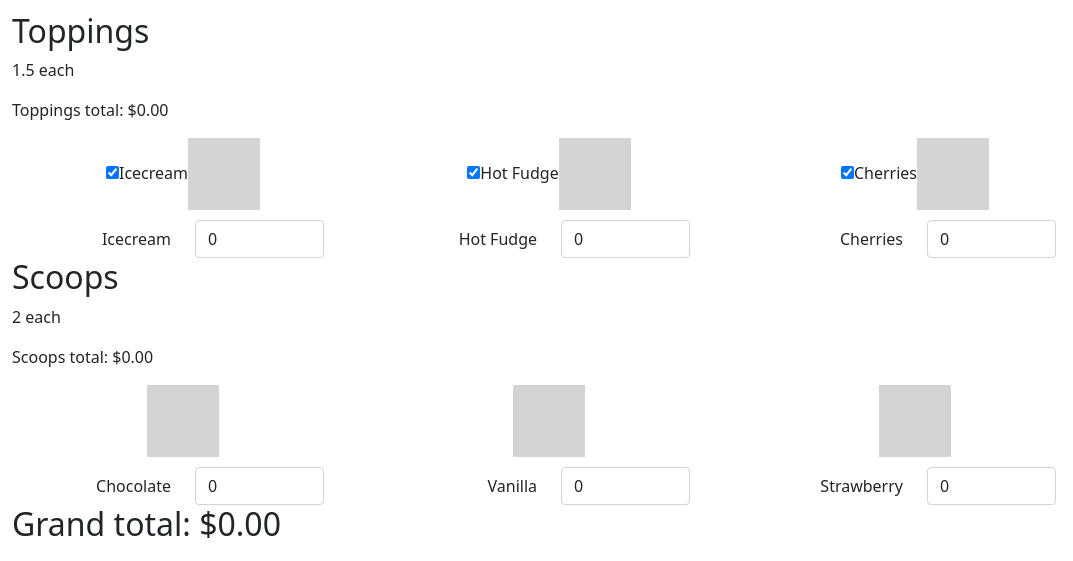
Test: grand total › grand total updates properly if item is removed
Replace the text in the number field labelled "Chocolate" with "1" at [259, 486], box [195,467,324,505]
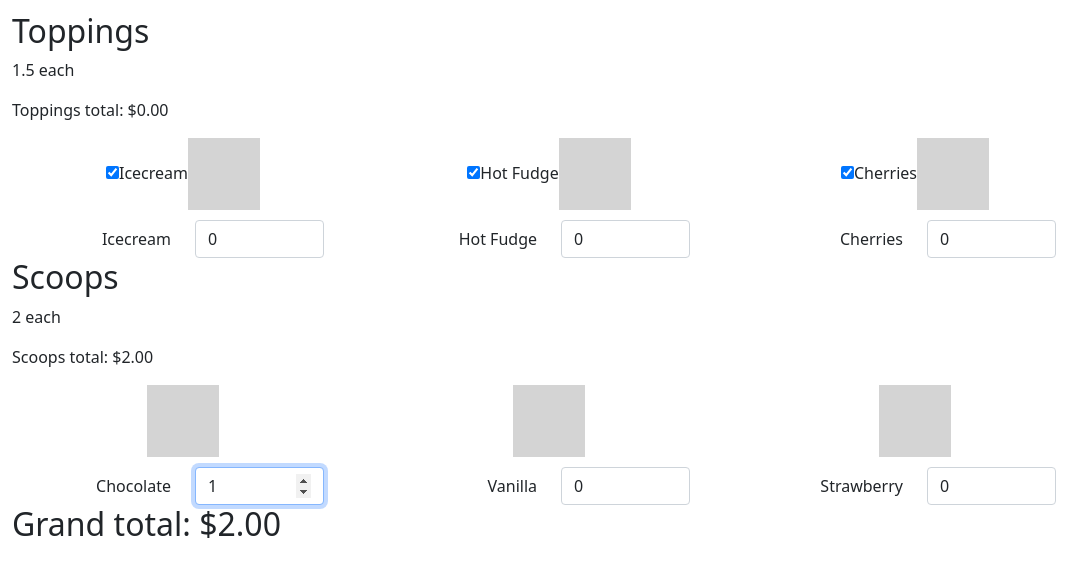
Expected: the heading "Grand total: $2.00" is shown, [12,502,281,545]
Replace the text in the number field labelled "Icecream" with "2" at [259, 239], box [195,220,324,258]
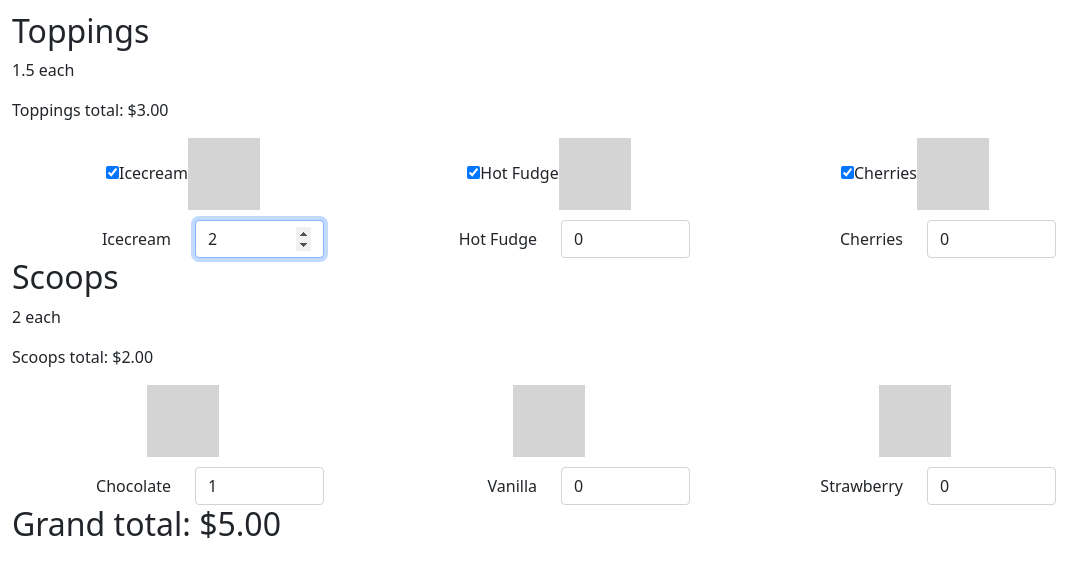
Expected: the heading "Grand total: $5.00" is shown, [12,502,281,545]
Replace the text in the number field labelled "Icecream" with "1" at [259, 239], box [195,220,324,258]
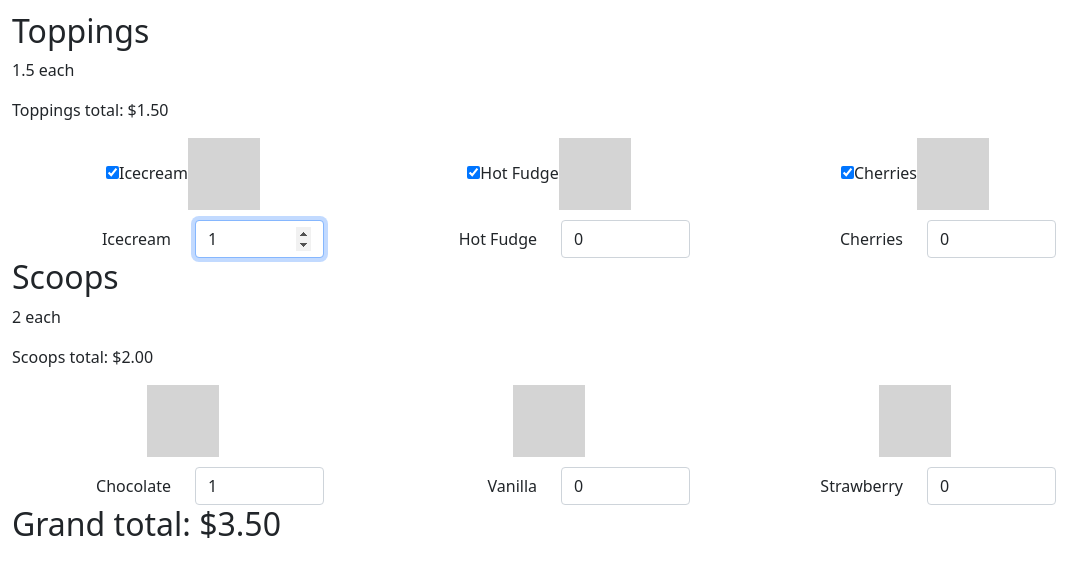
Expected: the heading "Grand total: $3.50" is shown, [12,502,281,545]
